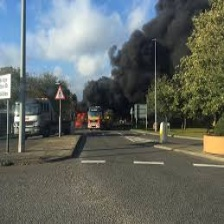smoke: (87, 4, 197, 105)
